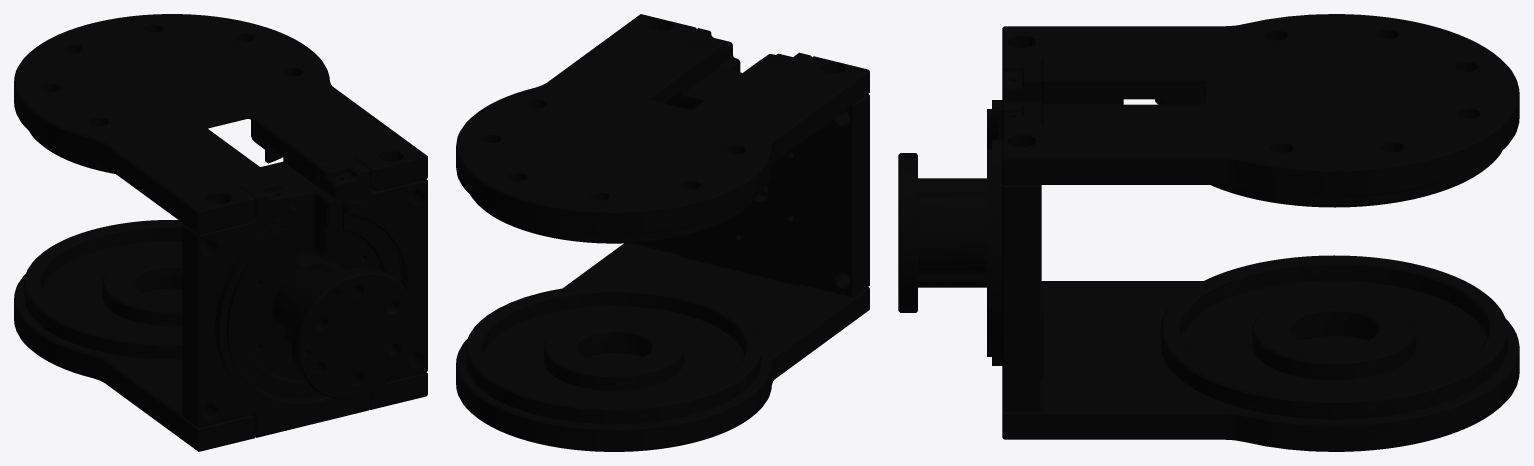
File: steer_motor_link1.obj
3 renders of one model, left to right at view 1: azimuth 30°, elevation 25°; view 2: azimuth 150°, elevation 25°; view 3: azimuth 270°, elevation 25°, orthographic. The views are drawn at different scales.
Parts seen in each view (by area): view 1: steer_motor_link1; view 2: steer_motor_link1; view 3: steer_motor_link1.
Boxes of the visible parts, box(x1,y1,x2,y2) form: steer_motor_link1: box(14, 14, 427, 451); steer_motor_link1: box(456, 14, 869, 451); steer_motor_link1: box(898, 14, 1519, 451).
Size of the model in its own units: 0.0949 by 0.08 by 0.1591.
Materials: 1 (1 with a texture image).
